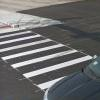Crosswalk: (8, 19, 60, 83)
